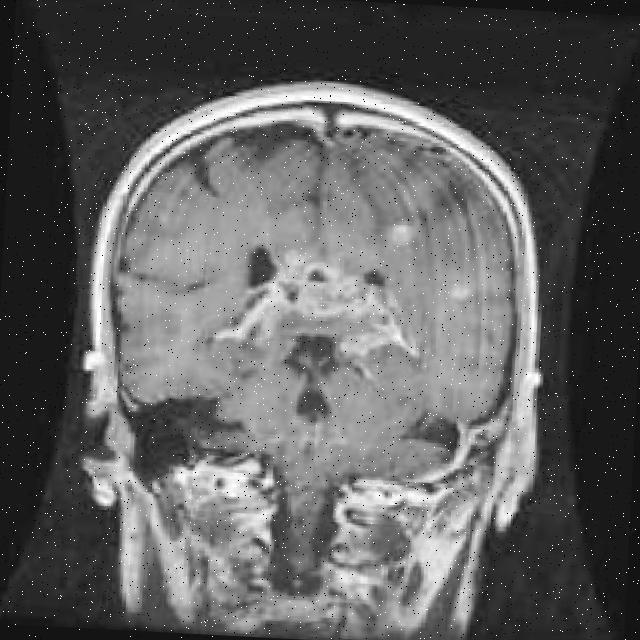LMCI: (238, 276, 368, 428)
